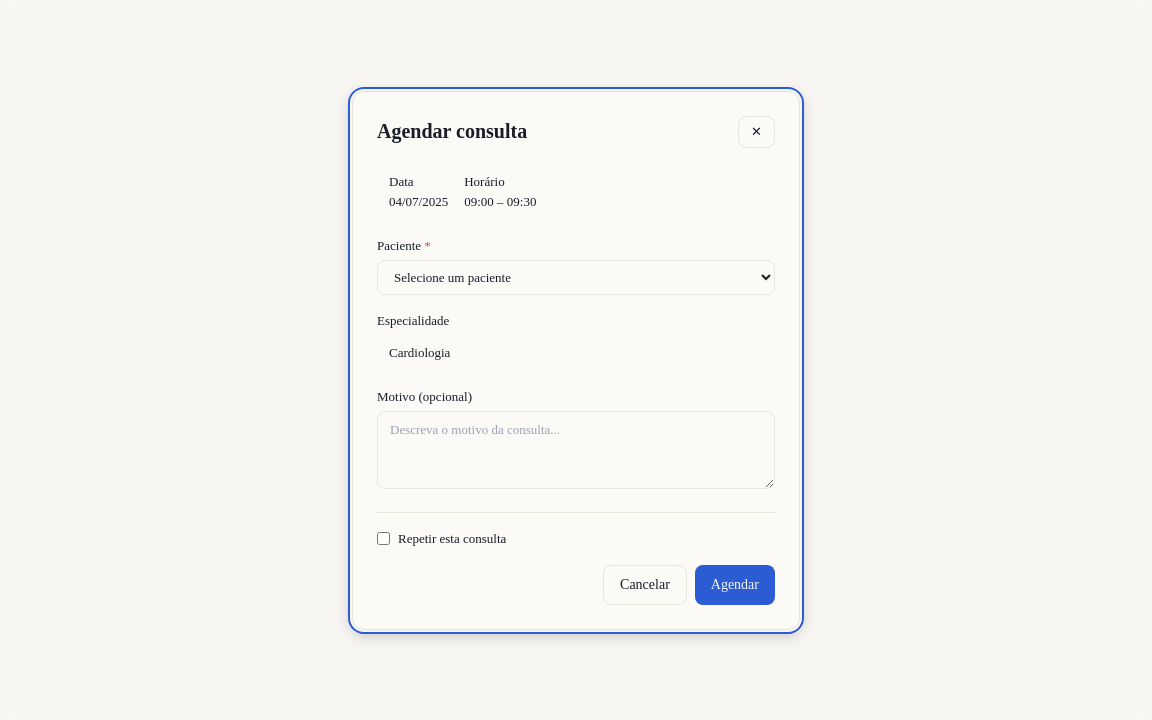
Test case: BookAppointmentDialog (integration) › shows patient validation error when submitting without selecting patient
Expected: the element with test id "book-dialog-specialty-readonly" is shown, left=377, top=310, right=775, bottom=370
Step 1. Click the button with test id "book-dialog-submit" → (735, 584), box left=695, top=564, right=775, bottom=604
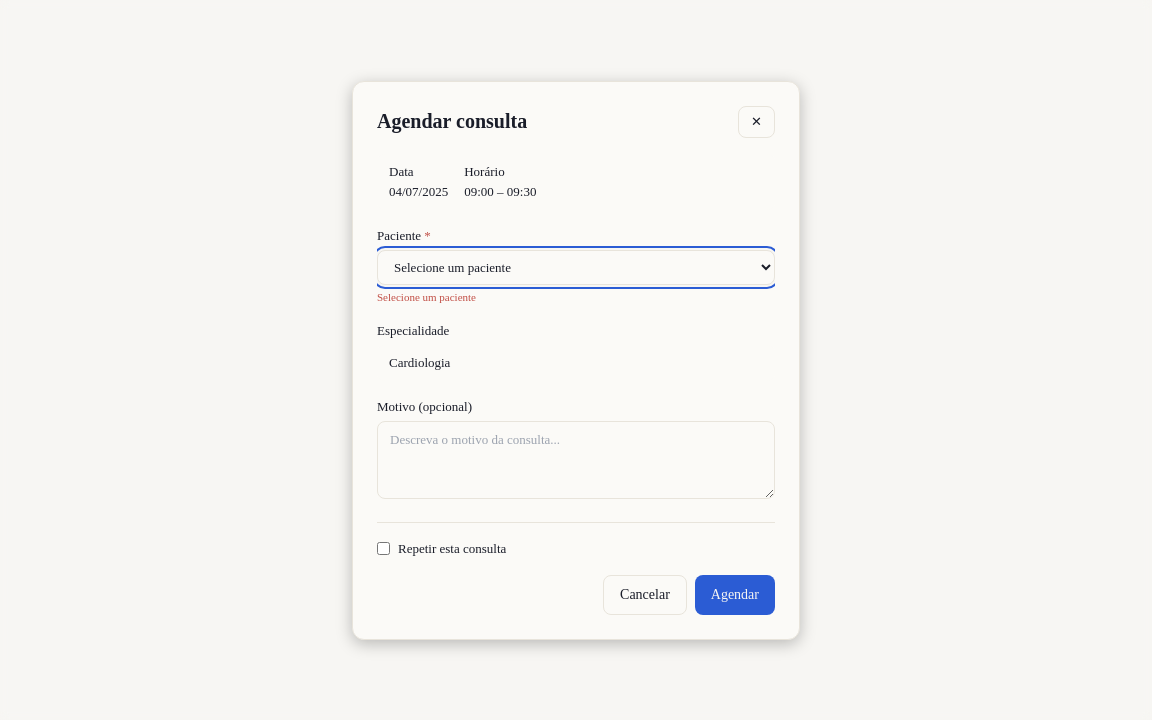
Result: the text "Selecione um paciente" is shown at left=377, top=290, right=476, bottom=302
